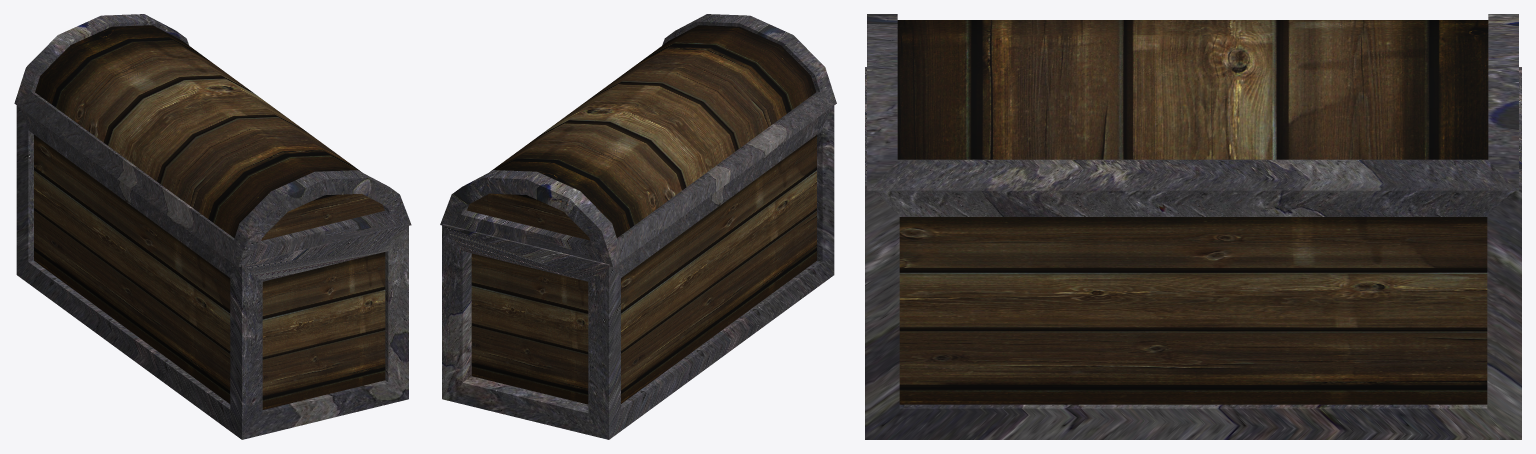
The model's file is crate.fbx.
3 renders of one model, left to right at view 1: azimuth 30°, elevation 25°; view 2: azimuth 150°, elevation 25°; view 3: azimuth 270°, elevation 25°, orthographic. The views are drawn at different scales.
Visible parts, largest first — view 1: wooden part, metal part; view 2: wooden part, metal part; view 3: wooden part, metal part.
Boxes of the visible parts, x1,y1,x2,y2 form: wooden part: (34, 25, 385, 409); metal part: (14, 14, 411, 439); wooden part: (467, 25, 816, 404); metal part: (440, 14, 836, 439); wooden part: (897, 20, 1488, 404); metal part: (865, 14, 1521, 439).
Size of the model in its own units: 235 by 311 by 531.
Materials: 2 (2 with a texture image).
